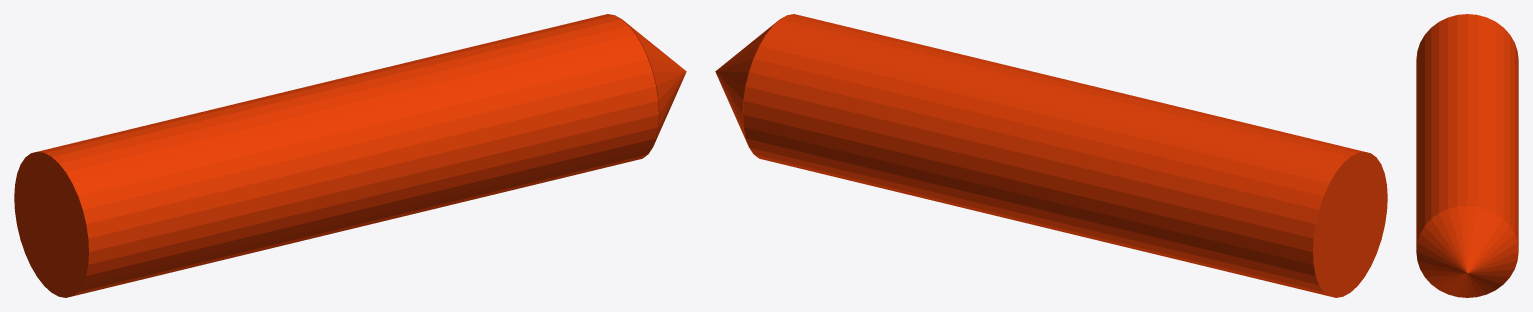
The model's file is missile.glb.
The picture shows the model from 3 angles, left to right: view 1: azimuth 30°, elevation 25°; view 2: azimuth 150°, elevation 25°; view 3: azimuth 270°, elevation 25°; orthographic projection. The views are drawn at different scales.
Parts seen in each view (by area): view 1: Cylinder; view 2: Cylinder; view 3: Cylinder.
Part boxes in pixels (box(x1,y1,x2,y2)): Cylinder: box(14, 14, 686, 297); Cylinder: box(715, 14, 1387, 297); Cylinder: box(1416, 14, 1518, 297).
Bounding box in the file's own units: 4.81 × 0.9916 × 0.9811.
